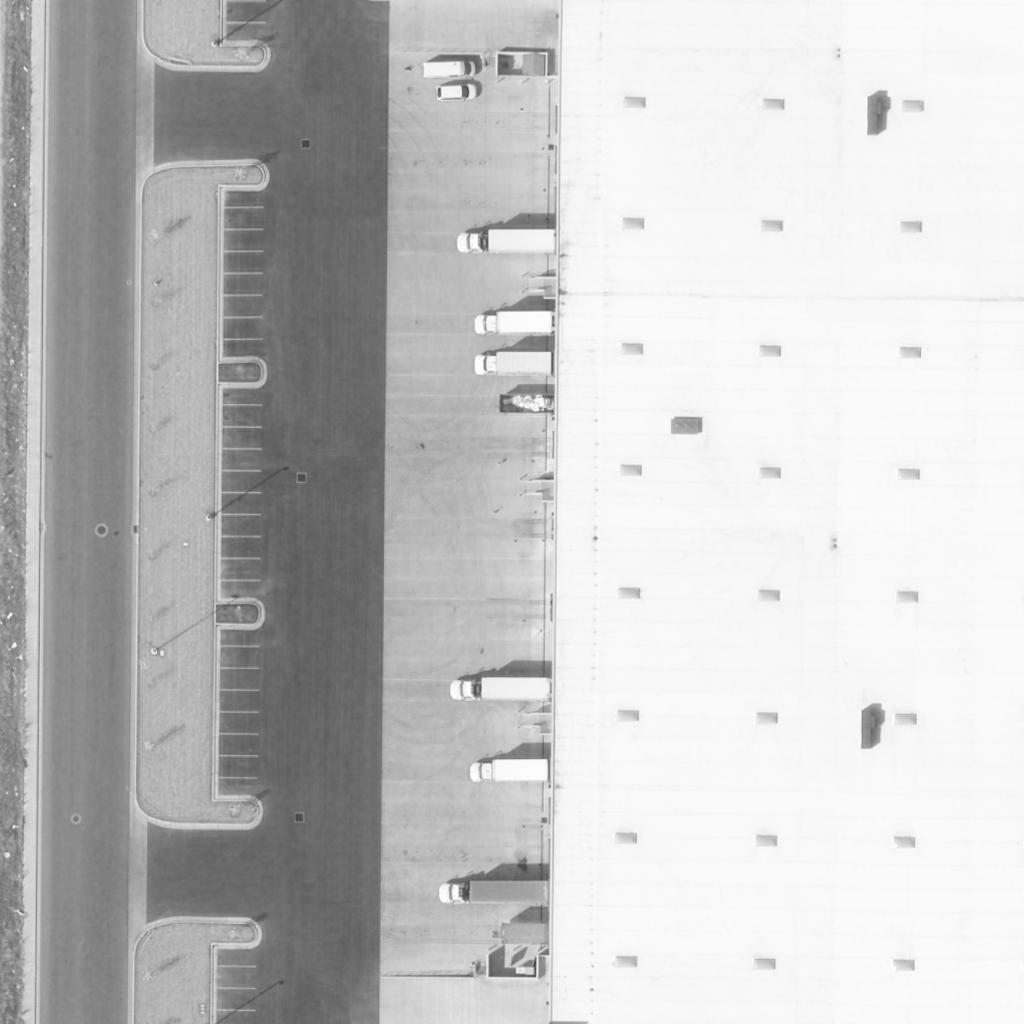vehicle: (438, 880, 548, 906), (456, 229, 556, 255), (448, 680, 552, 702), (475, 310, 555, 338), (473, 352, 555, 376), (468, 761, 550, 783), (423, 62, 477, 78), (435, 86, 479, 100)
